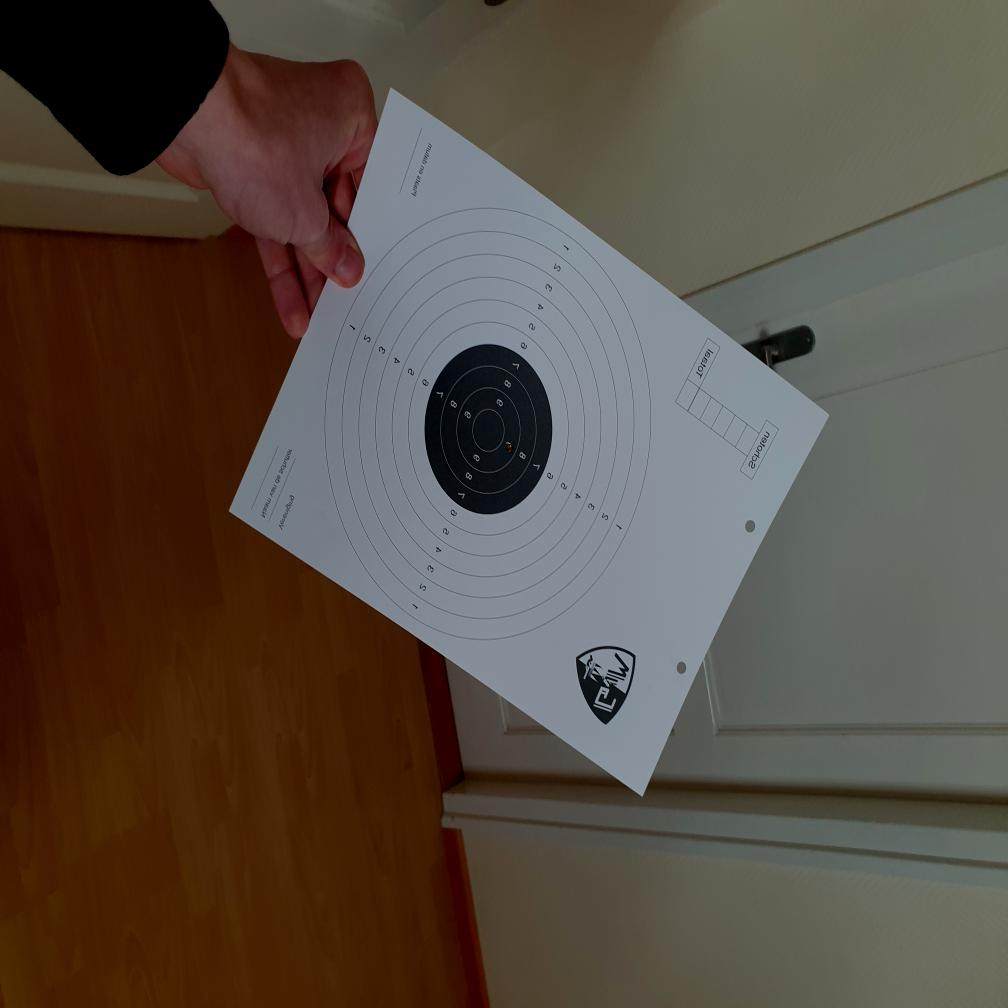9: (505, 442, 515, 454)
Target: (323, 204, 653, 639)
black_contour: (424, 340, 552, 516)
